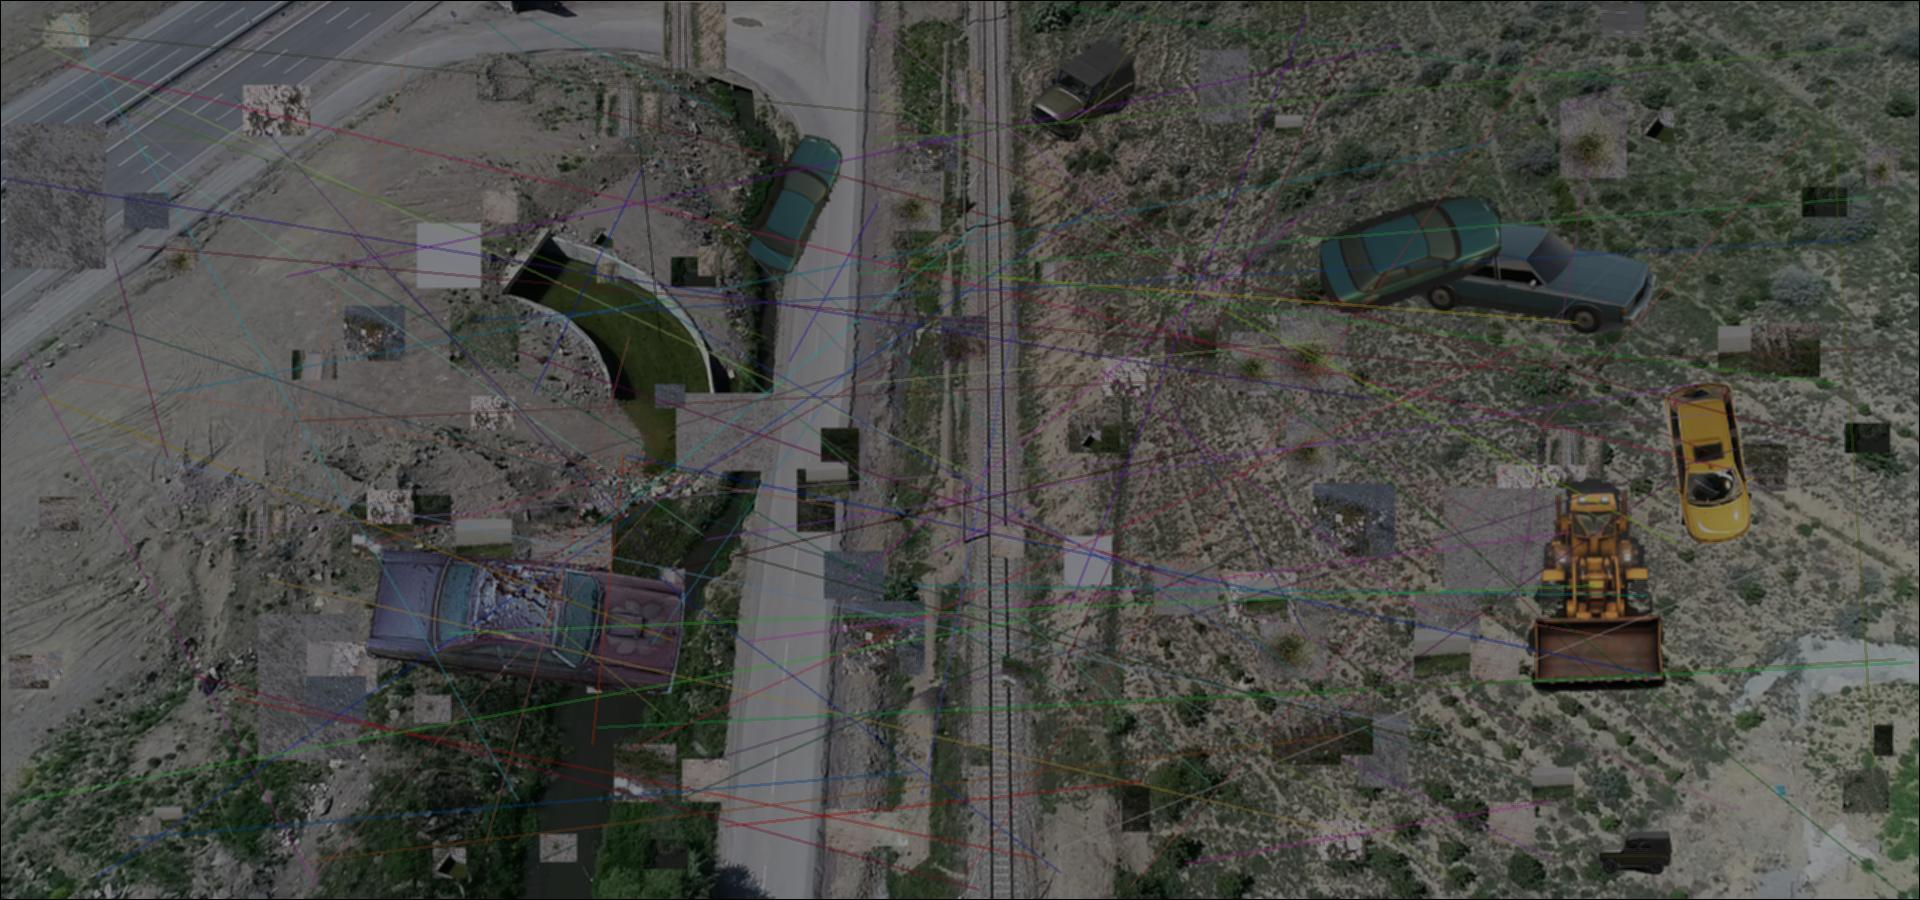arac: (360, 535, 689, 707), (1524, 475, 1671, 700), (1382, 219, 1658, 333), (1320, 190, 1501, 313), (1652, 381, 1760, 551), (741, 131, 842, 276), (1032, 39, 1136, 142), (1598, 831, 1671, 876)
